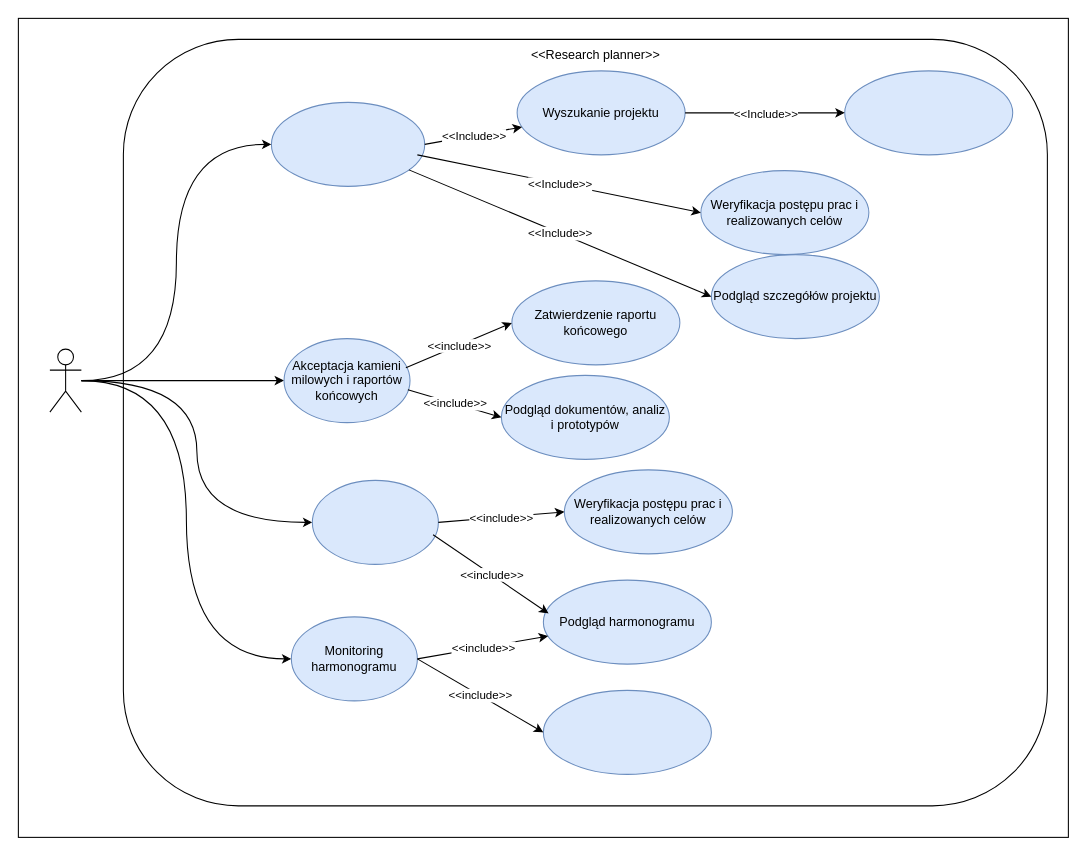
Some shapes in this 1087 by 856 pixel diagram are drawn without their labels. The shapes that lost their labels are listed below. From the top down, each one's centre as x and y in pixels, then its label:
At (x=928, y=112): "Filtrowanie projektów (status, jednostka)".
At (x=347, y=143): "Nadzór nad realizowanym projektem".
At (x=65, y=380): "Opiekun".
At (x=374, y=521): "Podgląd wyników".
At (x=626, y=731): "Identyfikacja opóźnień".
